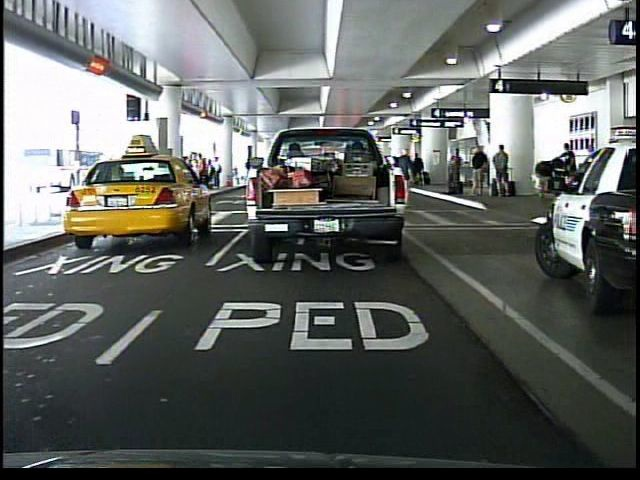person: (338, 140, 371, 220), (393, 143, 418, 212), (557, 138, 580, 200)
